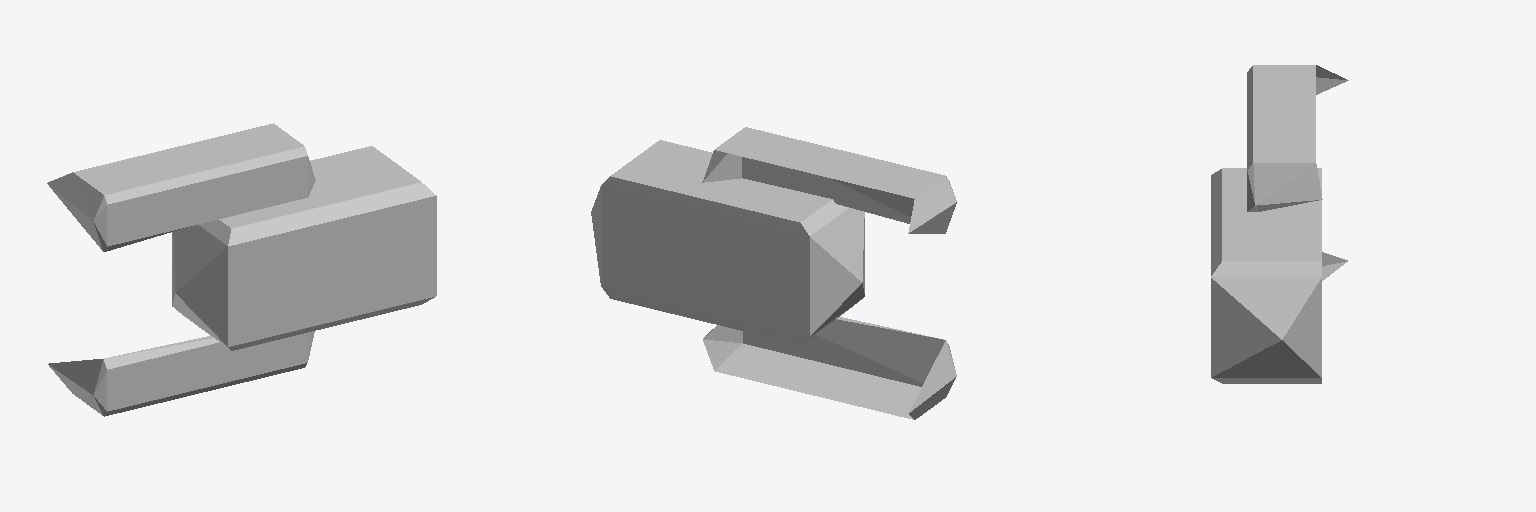
Rendered from bruteHeadSimple.obj.
3 renders of one model, left to right at view 1: azimuth 30°, elevation 25°; view 2: azimuth 150°, elevation 25°; view 3: azimuth 270°, elevation 25°, orthographic.
Parts seen in each view (by area): view 1: Object.2, Object.3, Object.1; view 2: Object.2, Object.1, Object.3; view 3: Object.2, Object.3.
Part boxes in pixels (bbox=[...]): Object.2: bbox=[172, 146, 436, 350]; Object.3: bbox=[47, 123, 315, 251]; Object.1: bbox=[48, 331, 314, 416]; Object.2: bbox=[591, 140, 864, 344]; Object.1: bbox=[703, 317, 956, 419]; Object.3: bbox=[702, 127, 956, 233]; Object.2: bbox=[1211, 168, 1321, 383]; Object.3: bbox=[1247, 65, 1348, 211].
Bounding box in the file's own units: 32.01 × 19.25 × 10.91.